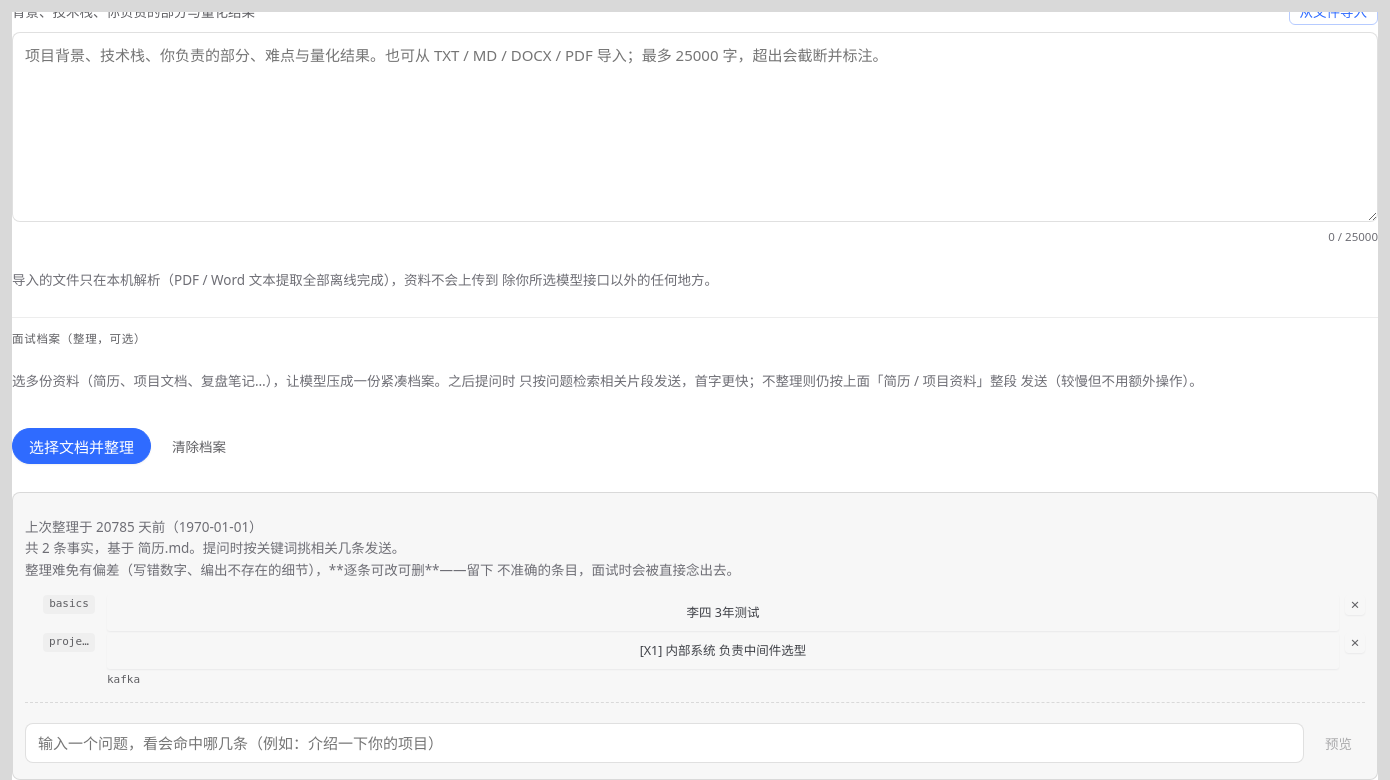
Test: ProfileCard —— 检索标签编辑 › 只改标签不动正文
The width and height of the screenshot is (1390, 780).
(page scrolled)
Click the button "[X1] 内部系统 负责中间件选型": {"x": 723, "y": 651} [107,633,1339,669]
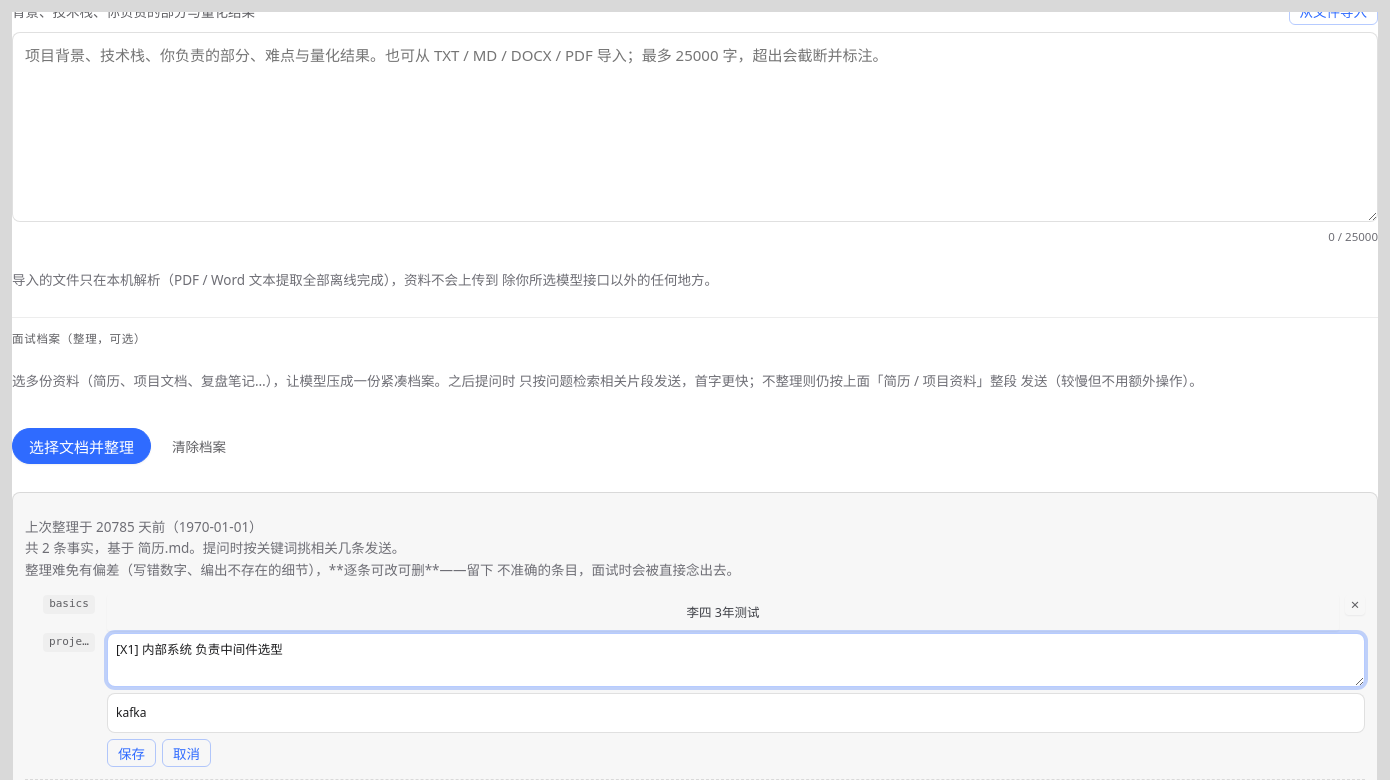
Replace the text in the field named "编辑第 2 条事实的标签" with "kafka, mq": {"x": 736, "y": 713} [107,693,1365,733]
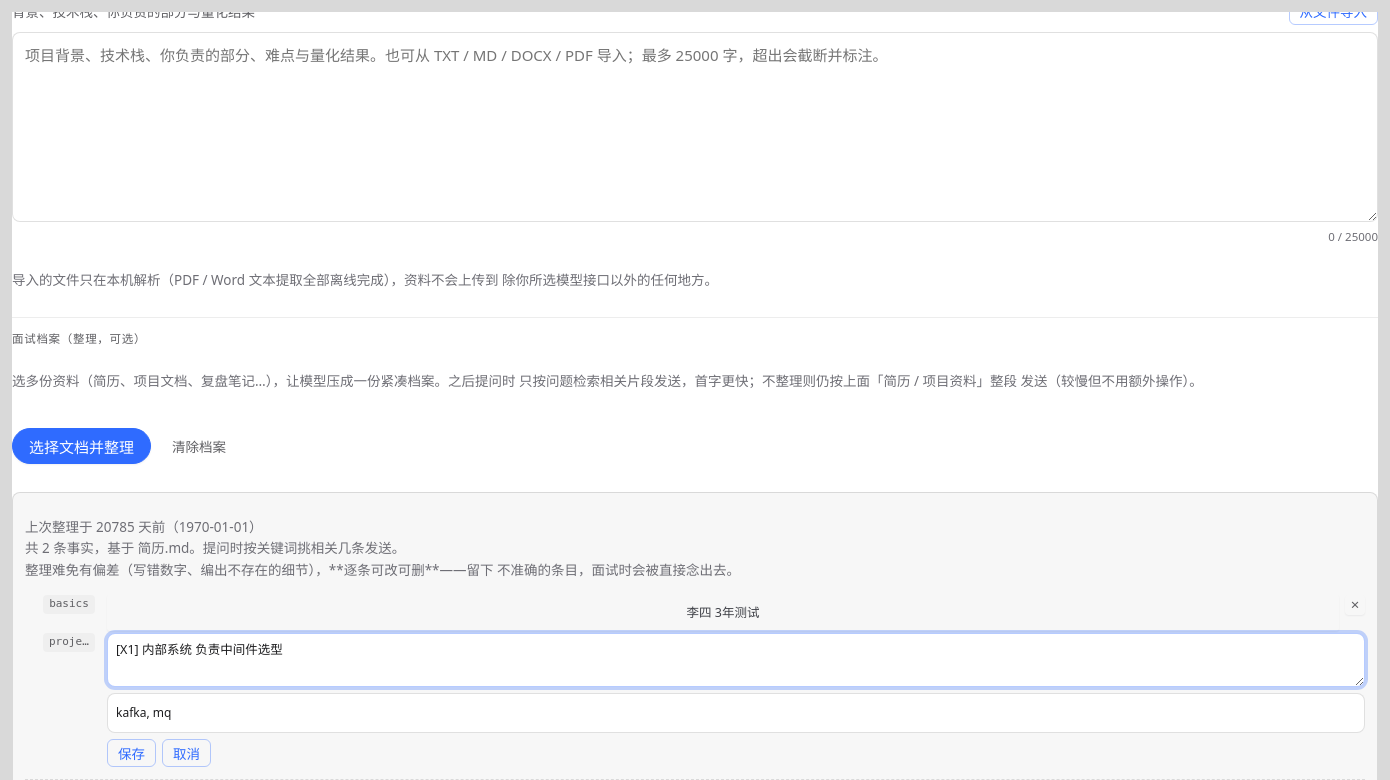
Click the button "保存": {"x": 132, "y": 753} [107,739,156,767]
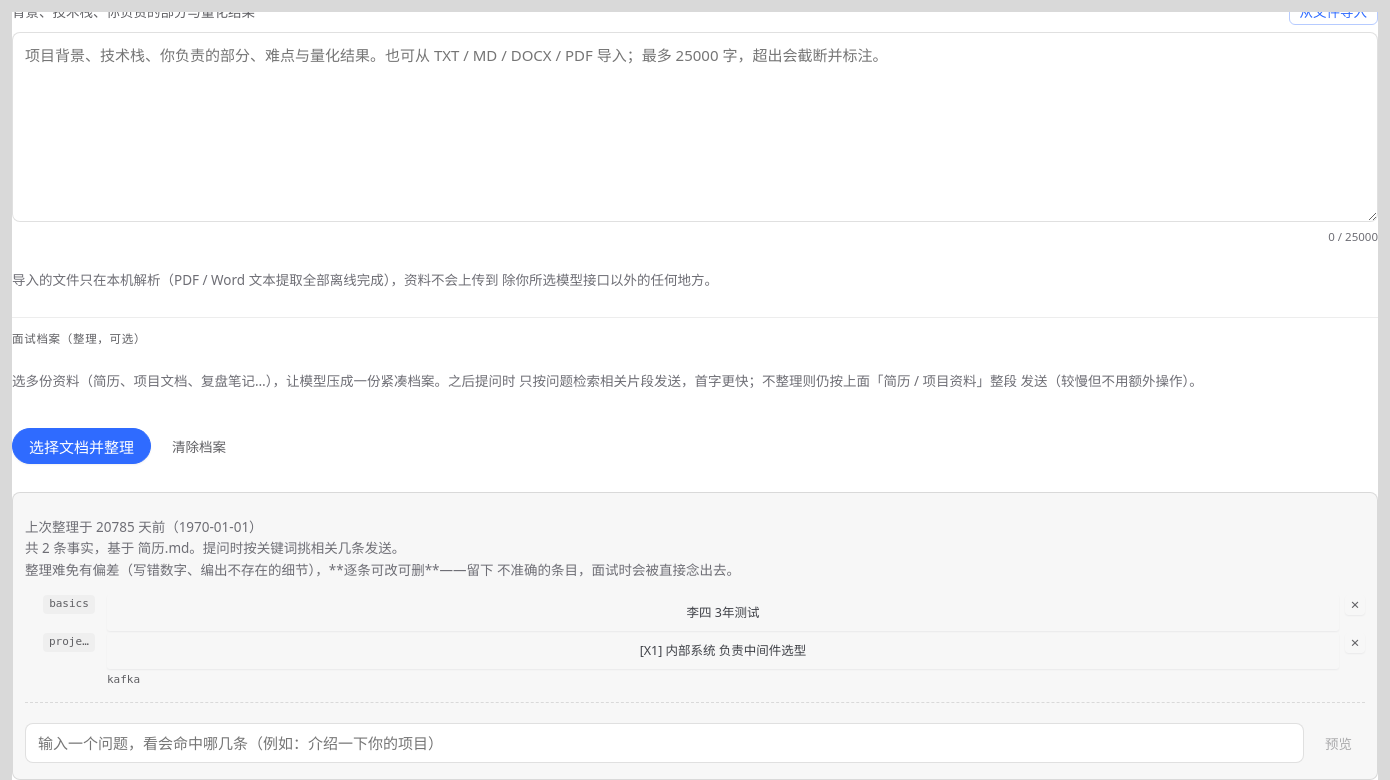
Check: the button "[X1] 内部系统 负责中间件选型" is shown, box [107,633,1339,669]
